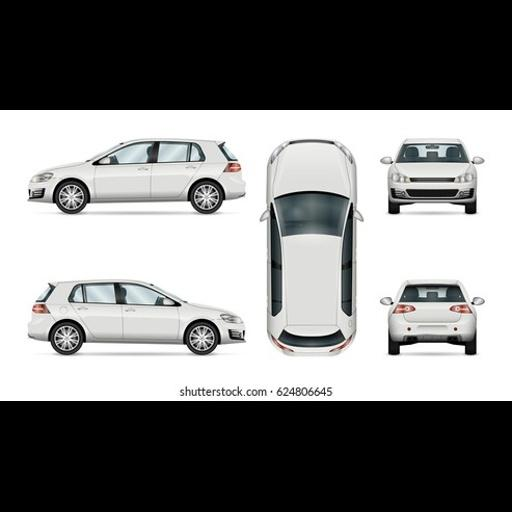hatchback: (261, 140, 361, 354), (29, 140, 245, 213), (28, 281, 243, 354), (382, 140, 485, 215), (381, 281, 483, 354)
